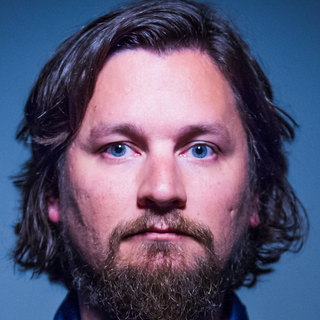eye: (177, 138, 224, 165), (96, 138, 143, 164)
